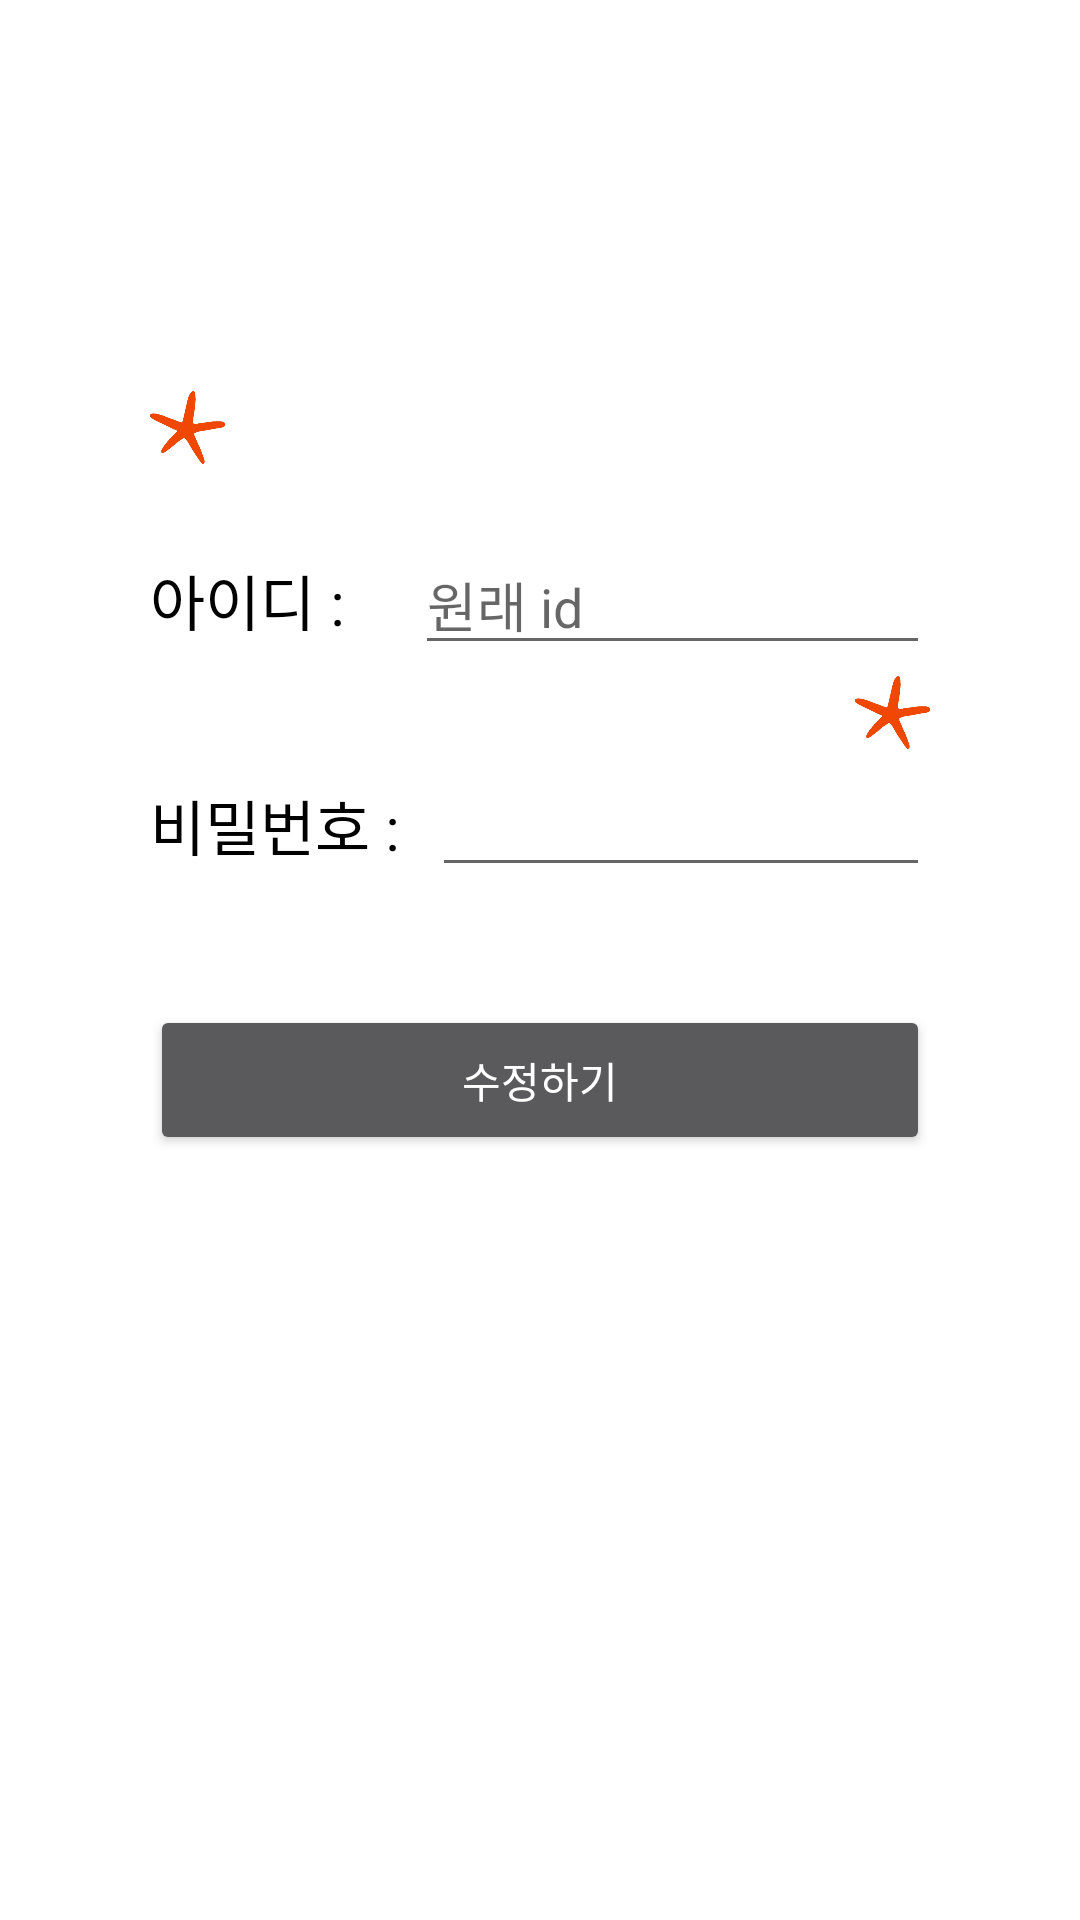

Where icons sit on this 1080×1920 app screen, as (x1, y1, x2, y2):
starfish: (150, 391, 225, 464), (855, 676, 930, 749)
